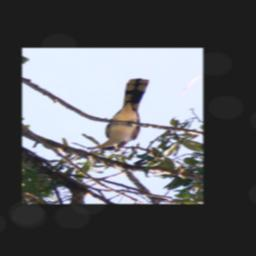Cuckoo: (87, 77, 152, 151)
